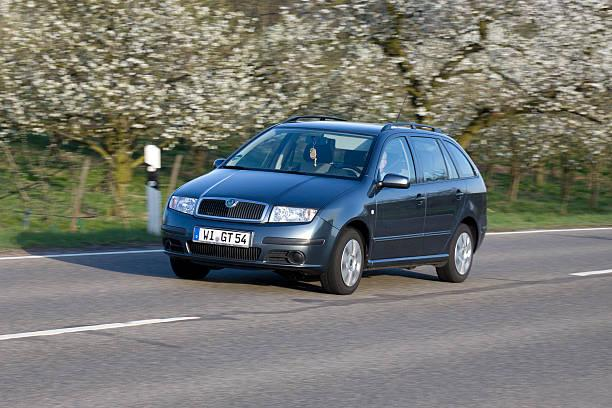skoda: (220, 193, 242, 212)
